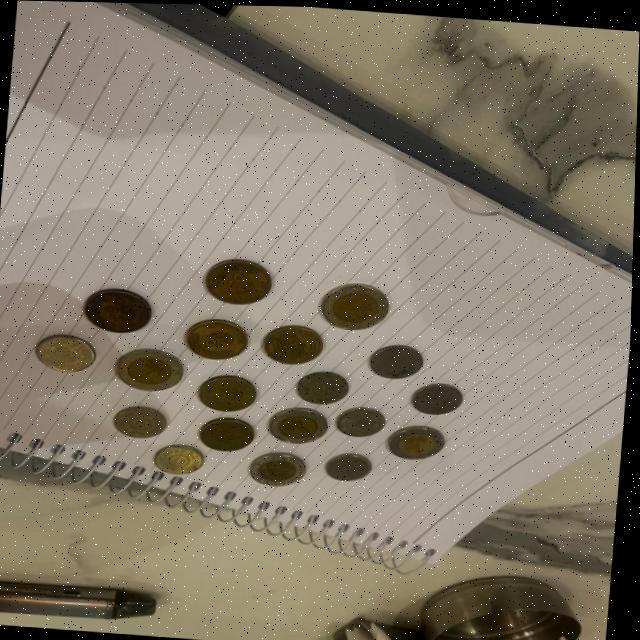Half Pound: (76, 282, 161, 340), (198, 254, 277, 311), (184, 313, 252, 363), (259, 321, 324, 368), (197, 412, 264, 456), (196, 374, 268, 412)
One Pound: (105, 339, 193, 395), (314, 277, 396, 332), (384, 418, 453, 462), (271, 401, 333, 447), (251, 446, 307, 489)
quarter pound: (32, 329, 102, 376), (364, 336, 433, 381), (404, 376, 470, 420), (113, 401, 174, 445), (298, 365, 355, 407), (321, 449, 378, 487), (335, 404, 388, 439), (154, 442, 205, 478)
